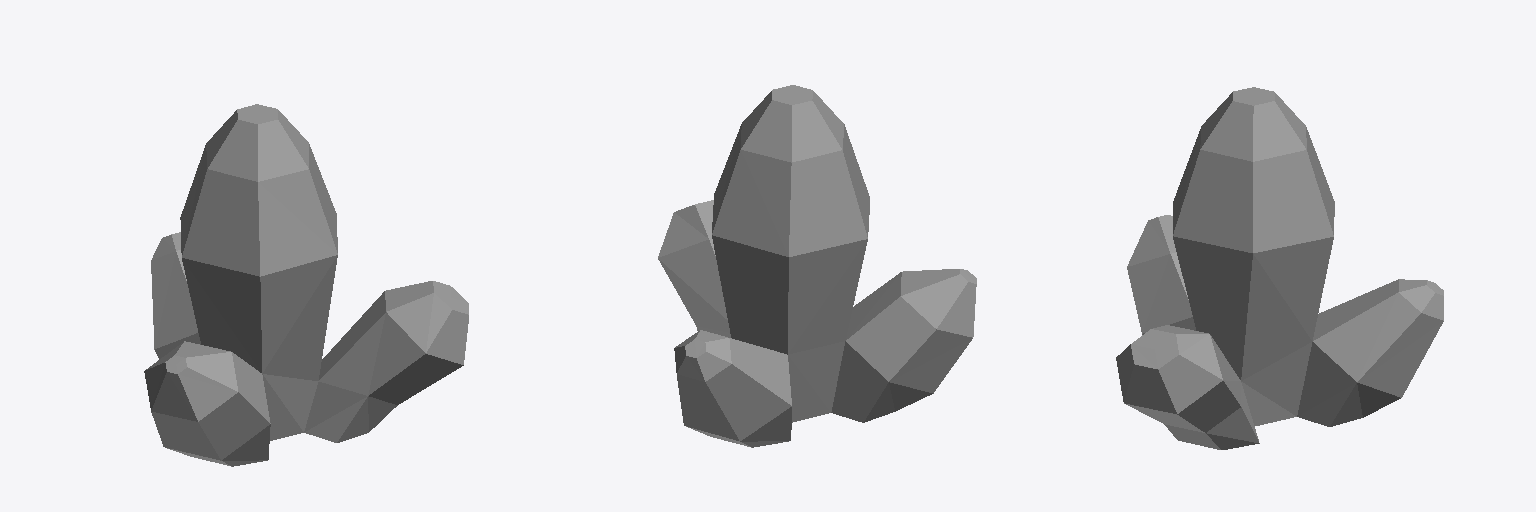
The model's file is crystal_inside.obj.
3 renders of one model, left to right at view 1: azimuth 30°, elevation 25°; view 2: azimuth 150°, elevation 25°; view 3: azimuth 270°, elevation 25°, orthographic.
Parts seen in each view (by area): view 1: Cube1; view 2: Cube1; view 3: Cube1.
Boxes of the visible parts, box(x1,y1,x2,y2) form: Cube1: box(144, 104, 468, 466); Cube1: box(658, 85, 976, 447); Cube1: box(1116, 87, 1443, 449).
Bounding box in the file's own units: 0.8296 × 0.789 × 0.7596.